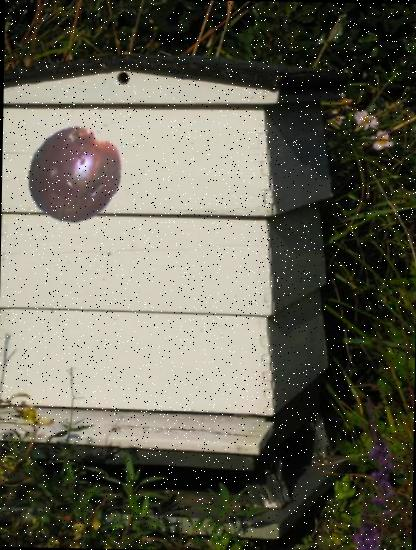Passion: (23, 122, 126, 226)
